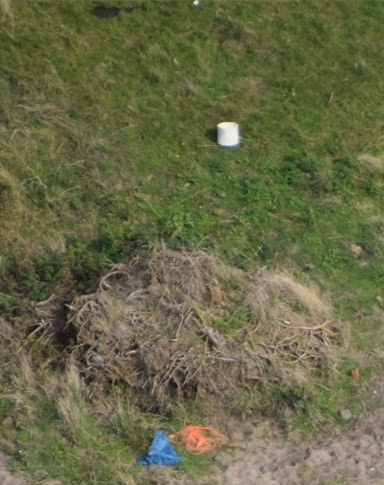net: (167, 414, 234, 459)
white_in_green: (191, 99, 270, 165), (122, 415, 195, 482)
